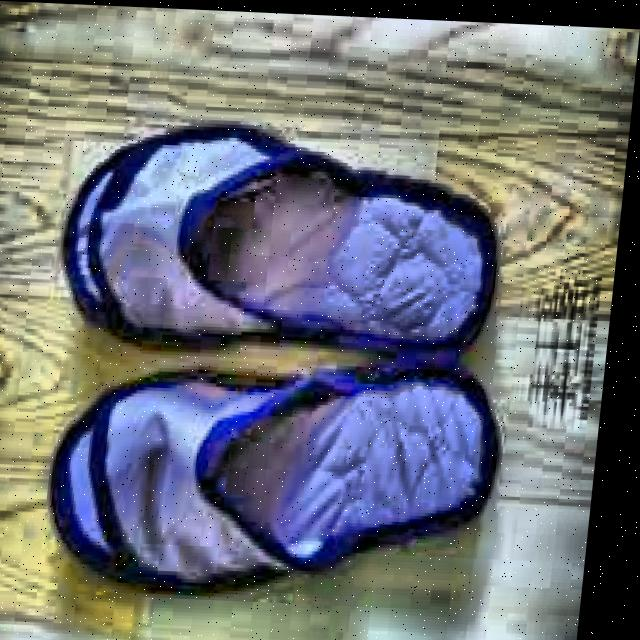shoes: (21, 107, 542, 622)
